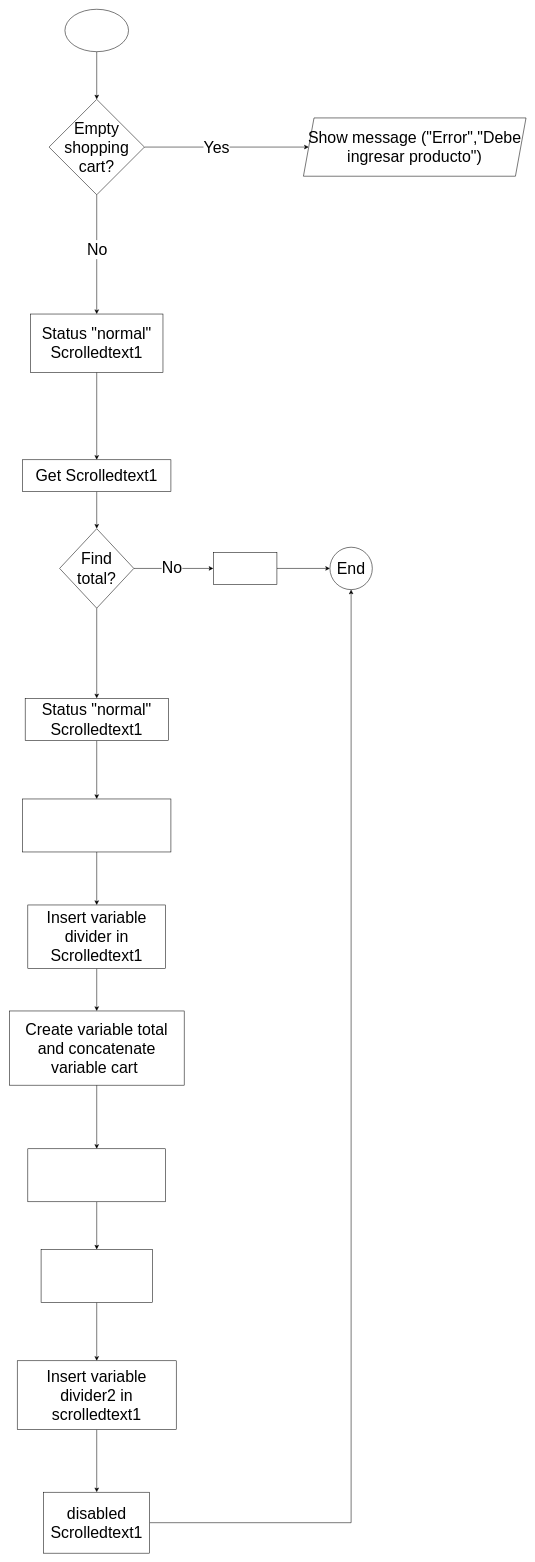
Image size: 535x1562. Some labels were removed from this diagram. Here are the shapes that lost their labels. From the top down, the centre of each, then its label:
At [96,30]: "Start".
At [245,568]: "Return".
At [96,825]: "Create variable divider".
At [96,1175]: "Insert total in scrolledtext1".
At [96,1275]: "Create variable divider2".
